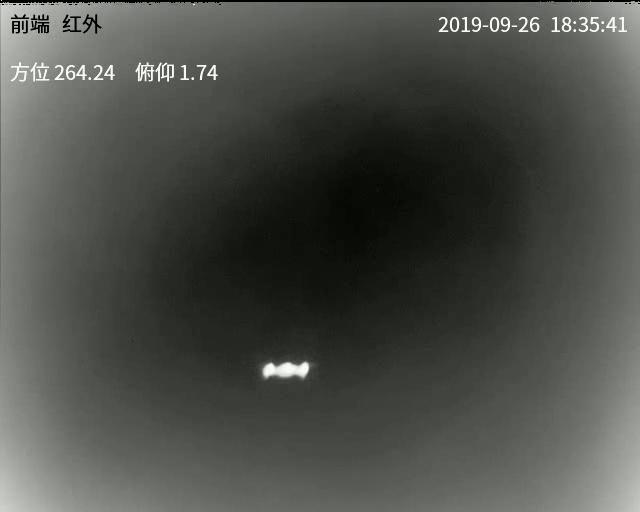DRONE: (261, 361, 309, 380)
